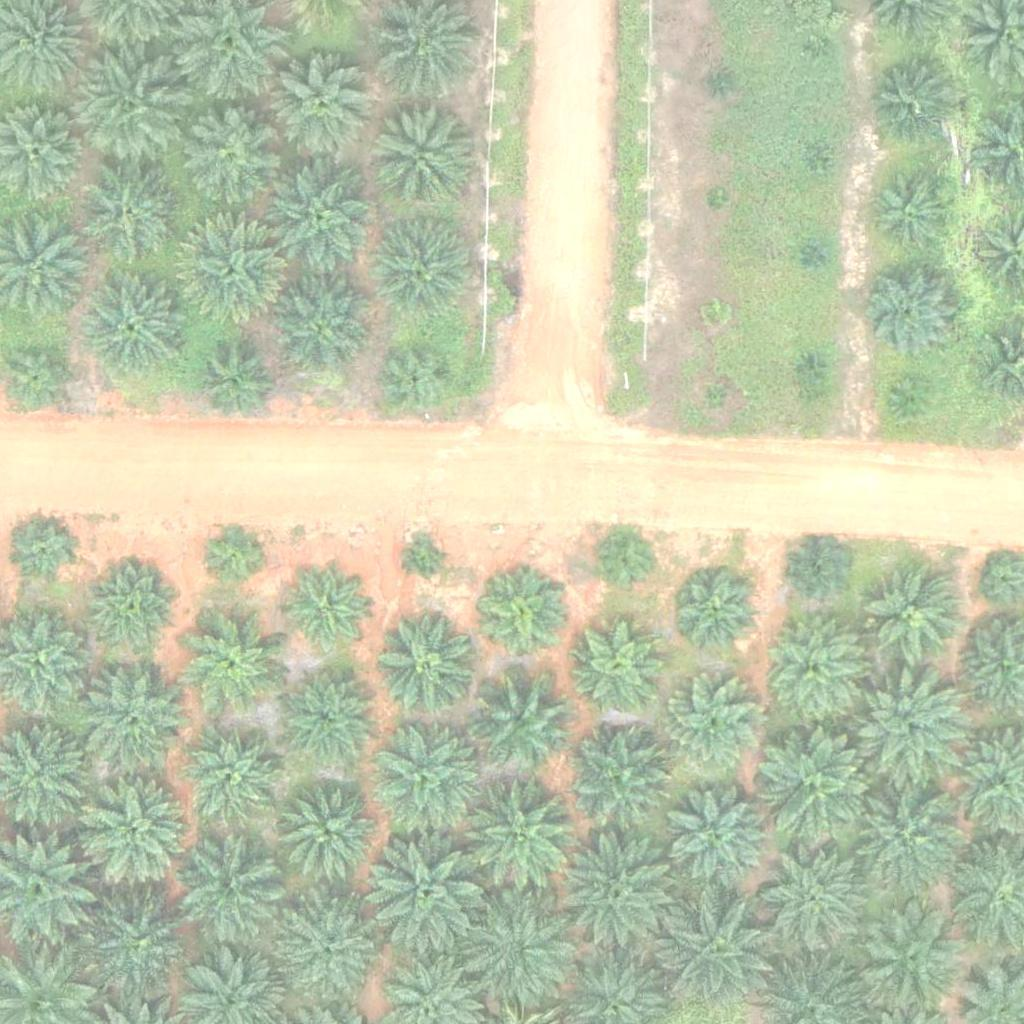Kelapa_Sawit: (361, 833, 486, 959), (454, 890, 579, 1016), (550, 832, 675, 958), (655, 891, 780, 1017), (756, 722, 881, 848), (839, 771, 964, 897), (74, 772, 199, 897), (464, 781, 577, 895), (564, 722, 677, 836), (264, 159, 377, 272), (853, 671, 966, 784), (854, 903, 967, 1016), (177, 220, 289, 333), (853, 256, 965, 369), (72, 52, 184, 165), (370, 716, 482, 829), (664, 783, 776, 896), (755, 840, 867, 953), (271, 277, 371, 378), (80, 168, 180, 269), (84, 275, 184, 376), (83, 667, 183, 768), (91, 894, 191, 995), (185, 614, 285, 715), (180, 729, 280, 830), (181, 843, 281, 944), (277, 666, 377, 767), (279, 782, 379, 883), (276, 898, 376, 999), (660, 676, 760, 777), (764, 617, 864, 718), (864, 565, 964, 666), (369, 105, 469, 205), (374, 219, 474, 319), (275, 58, 375, 158), (181, 108, 281, 208), (377, 611, 477, 711), (472, 669, 572, 769), (871, 167, 959, 256), (868, 59, 956, 147), (282, 566, 370, 654), (575, 621, 663, 709), (674, 570, 762, 658), (94, 563, 181, 651), (481, 575, 568, 663), (380, 341, 455, 417), (198, 347, 273, 422), (2, 341, 77, 416), (786, 540, 849, 603), (15, 520, 77, 583), (201, 521, 263, 584), (596, 533, 658, 596), (893, 378, 931, 416), (408, 541, 445, 579), (809, 38, 834, 63), (803, 154, 828, 179), (709, 71, 734, 96), (705, 189, 730, 214), (701, 301, 726, 326), (704, 385, 729, 410), (804, 243, 829, 268), (797, 353, 822, 378)
